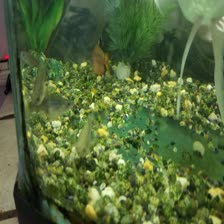Guppy: (72, 110, 102, 161), (29, 89, 79, 118), (29, 50, 51, 109), (18, 45, 43, 69)
Transparente: (91, 40, 112, 78)
